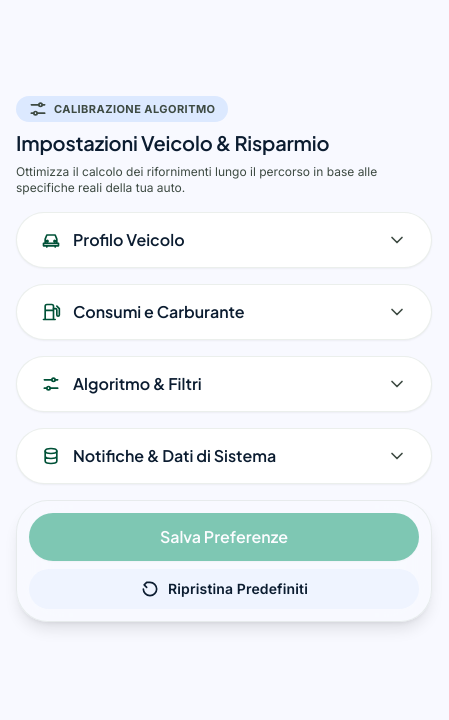
Test: SettingsScreen — salvataggio › «Salva Preferenze» è disattivato finché non cambia qualcosa, poi salva in routefuel.settings.v1
Click the button "Profilo Veicolo": click(129, 240) [17, 213, 431, 267]
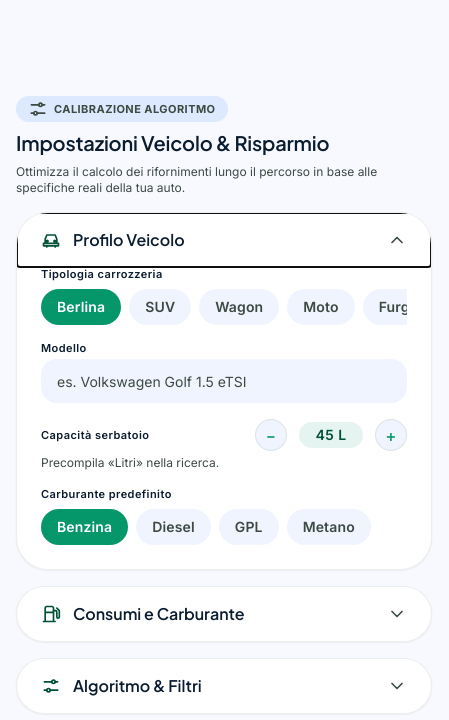
Click the radio button labelled "SUV": click(160, 307) [129, 289, 191, 325]
(page scrolled)
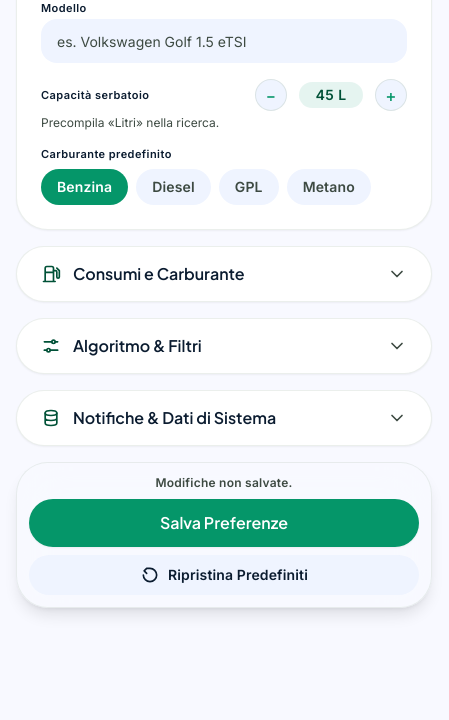
Now the button "Salva Preferenze" is enabled
Now the text "Modifiche non salvate." is shown, box [155, 475, 293, 490]
Click the button "Salva Preferenze": click(224, 523) [29, 499, 419, 547]
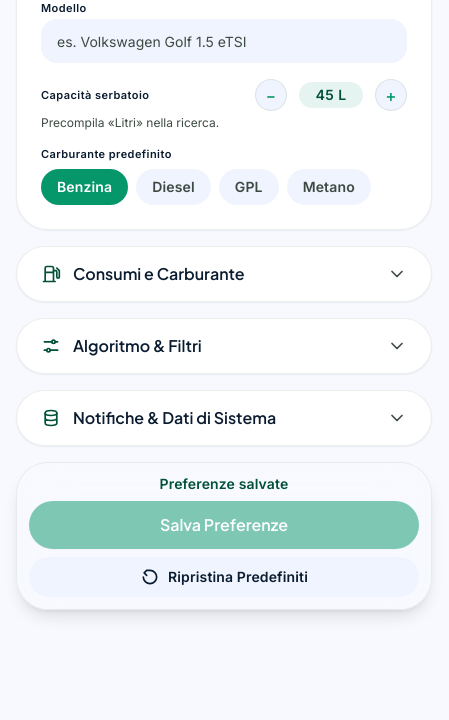
Now the text "Preferenze salvate" is shown, box [160, 475, 288, 492]
Now the button "Salva Preferenze" is disabled, box [29, 501, 419, 549]
